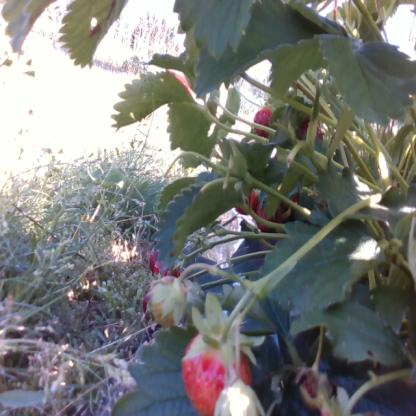ripe: (181, 324, 256, 416), (250, 172, 294, 232), (251, 93, 288, 147), (148, 237, 184, 280)
